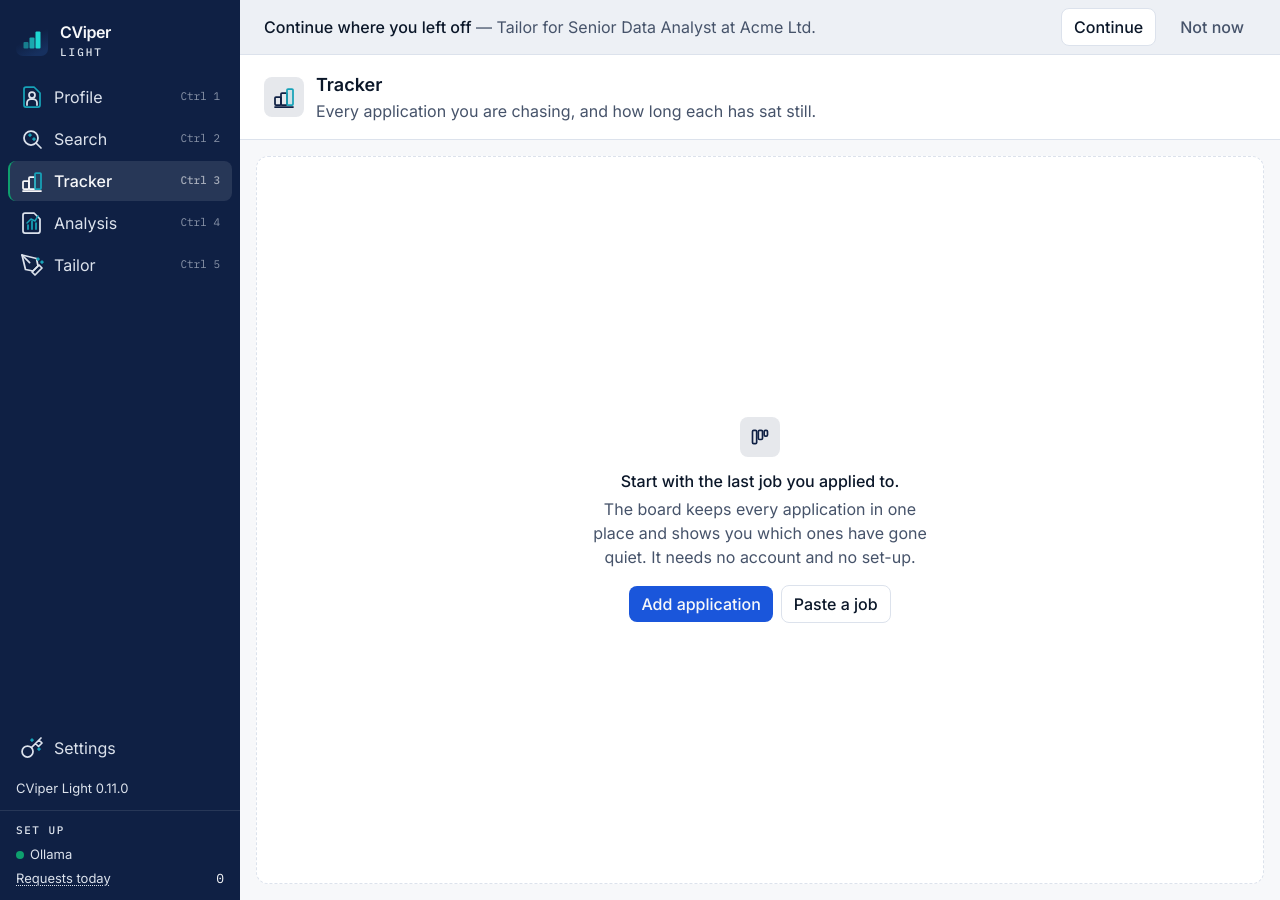
restarting mid-Tailor (L-199) › happy: offers the job back, and Continue reopens the same job, CV, advert and draft
The width and height of the screenshot is (1280, 900).
Expected: the element with test id "resume-banner" shows "Tailor for Senior Data Analyst at Acme Ltd", [472, 17, 816, 37]
Click the button with test id "resume-continue" at (1109, 27), box [1061, 8, 1156, 46]
(page scrolled)
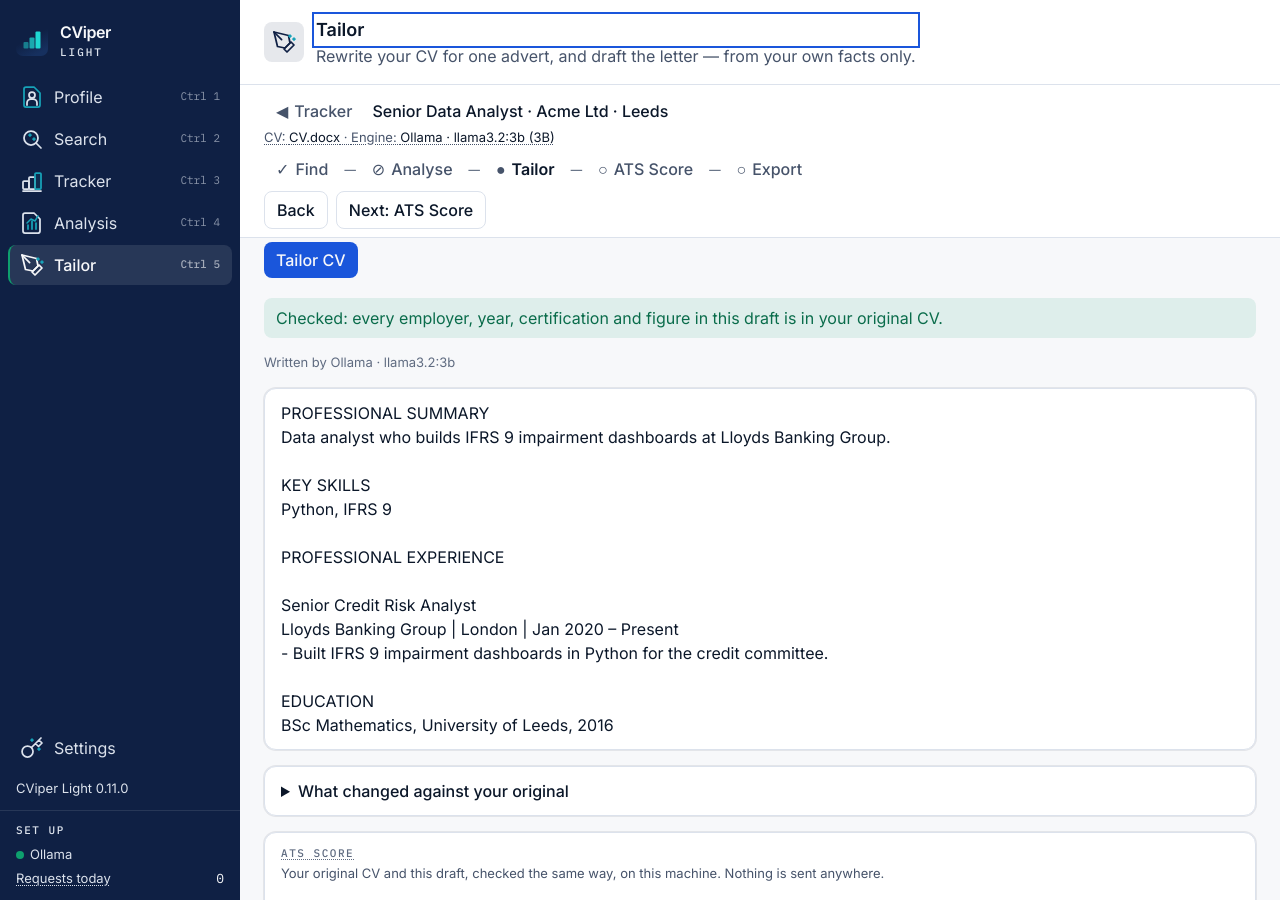
Expected: the element with test id "view-tailor" is shown
Expected: the element with test id "resume-banner" is gone
Expected: the text with test id "tailor-cv" shows "IFRS 9 impairment dashboards", [281, 403, 891, 735]
